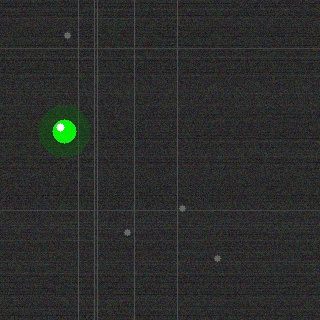green_normal: (50, 117, 78, 145)
